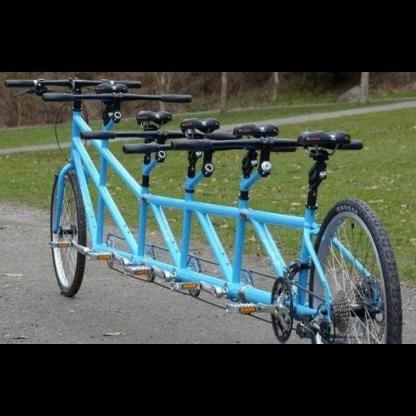Bicycle: (0, 76, 415, 345)
